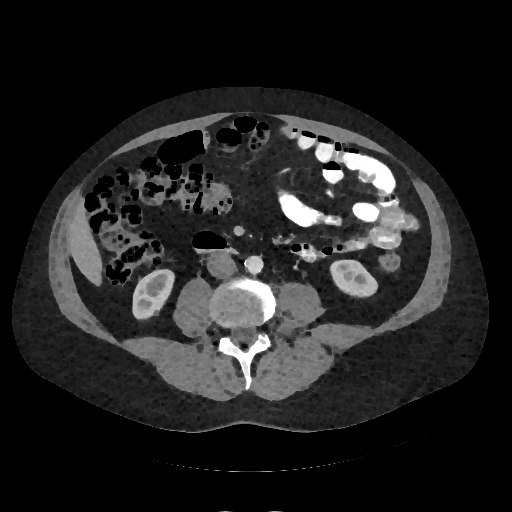Lesion: (149, 308, 160, 318)
